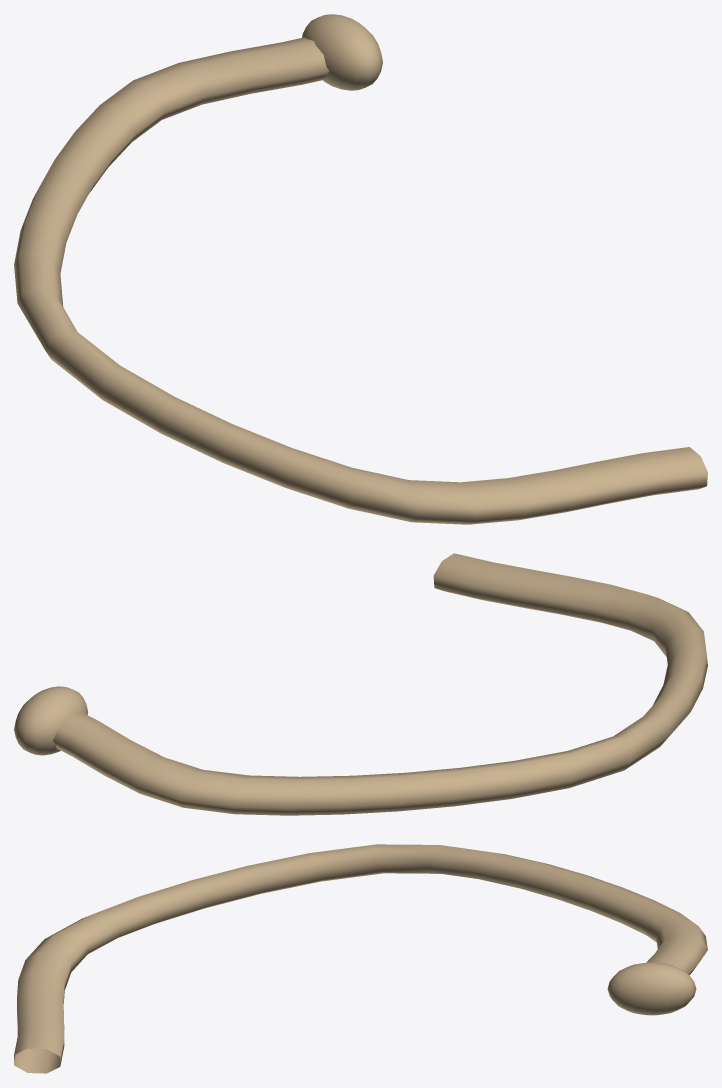
The model's file is right_rib_1.glb.
3 views of the same model, one above another, from view 1: azimuth 30°, elevation 25°; view 2: azimuth 150°, elevation 25°; view 3: azimuth 270°, elevation 25° (orthographic). The views are drawn at different scales.
Visible parts, largest first — view 1: right_rib_1:costal-body, right_rib_1:head; view 2: right_rib_1:costal-body, right_rib_1:head; view 3: right_rib_1:costal-body, right_rib_1:head.
Part boxes in pixels (left/top/right/bottom): right_rib_1:costal-body: left=14, top=37, right=707, bottom=524; right_rib_1:head: left=302, top=14, right=382, bottom=90; right_rib_1:costal-body: left=53, top=553, right=707, bottom=815; right_rib_1:head: left=14, top=686, right=88, bottom=755; right_rib_1:costal-body: left=14, top=844, right=707, bottom=1073; right_rib_1:head: left=607, top=962, right=696, bottom=1015.
Size of the model in its own units: 0.2494 by 0.0774 by 0.387.
